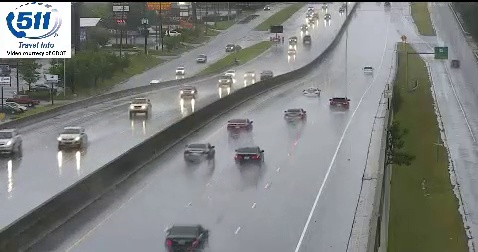car: (165, 224, 208, 252), (184, 142, 214, 161), (235, 146, 264, 165), (227, 118, 253, 134), (284, 107, 306, 123), (329, 96, 350, 112), (303, 86, 321, 98)
